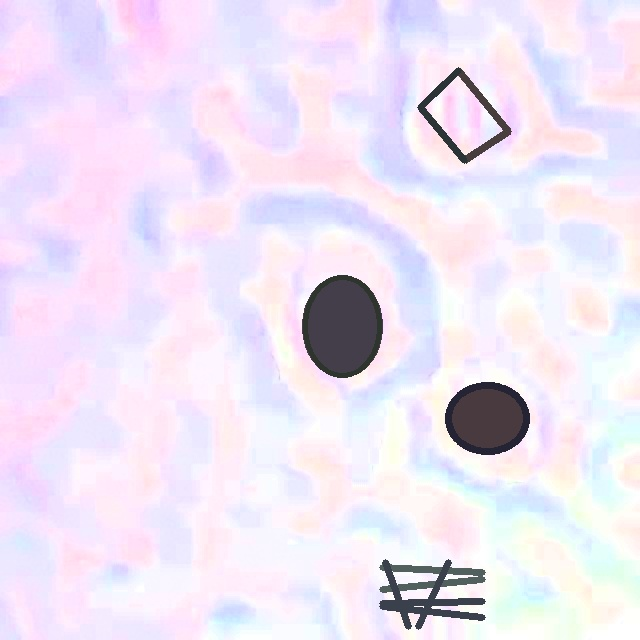close: (302, 275, 381, 377)
open: (417, 68, 510, 163), (379, 559, 485, 629), (445, 381, 529, 454)
